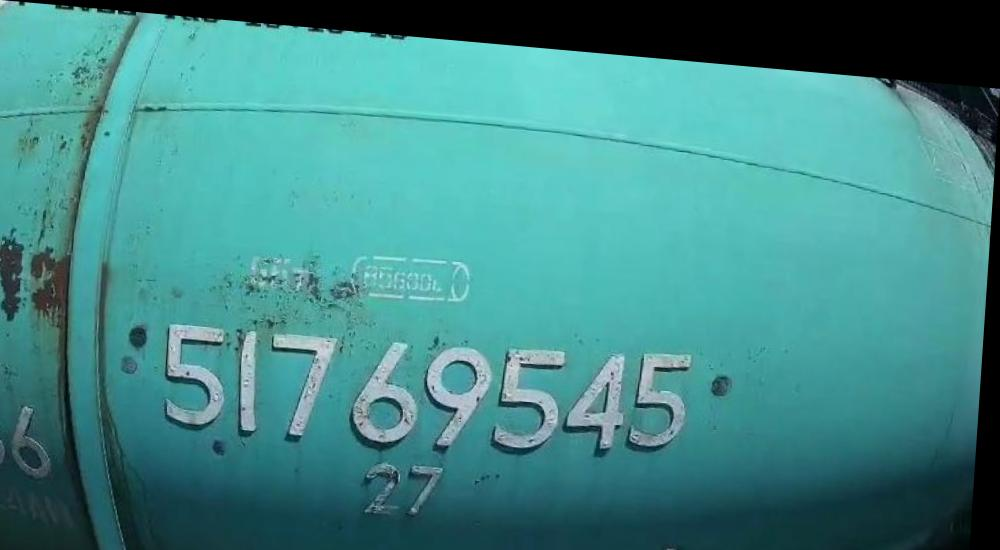Wagon-number: (159, 299, 704, 464)
